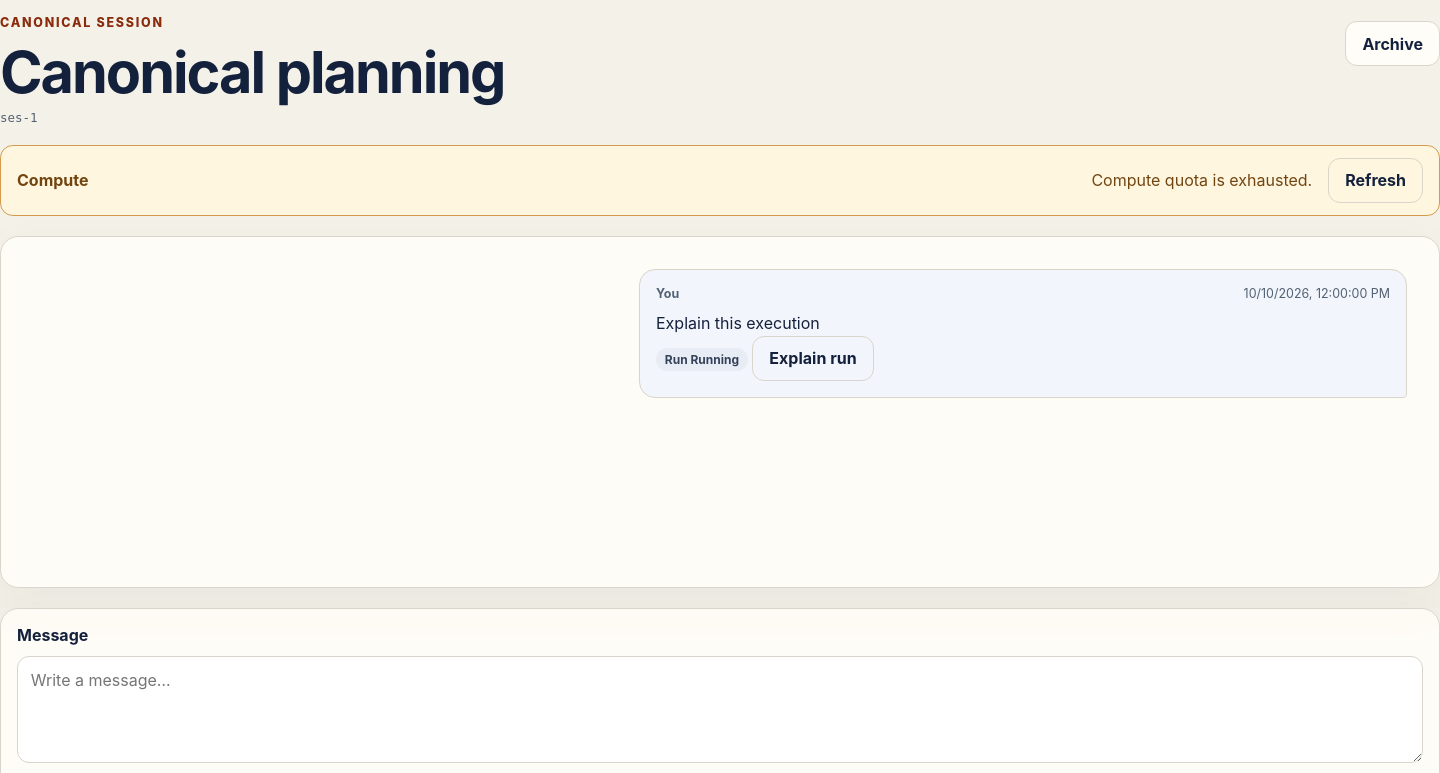
SessionDetail explanation lifecycle › does not replace new-scope compute with a stale refresh read
Click the button "Refresh" at (1376, 180), box [1328,158,1423,203]
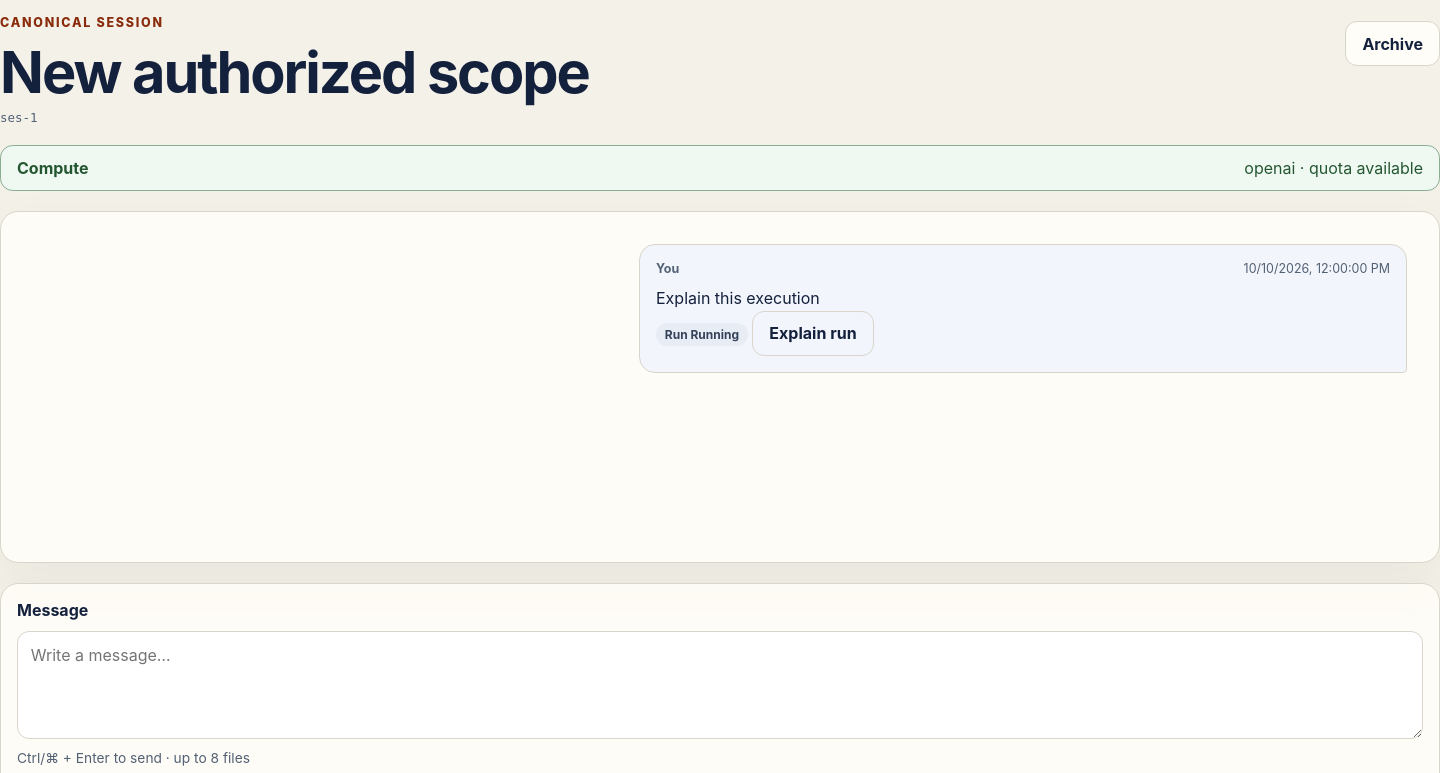
Check: the heading "New authorized scope" is shown, box [0,41,589,103]
Type "New scope message" into the text box labelled "Message" at (720, 685), box [17,631,1423,739]
(page scrolled)
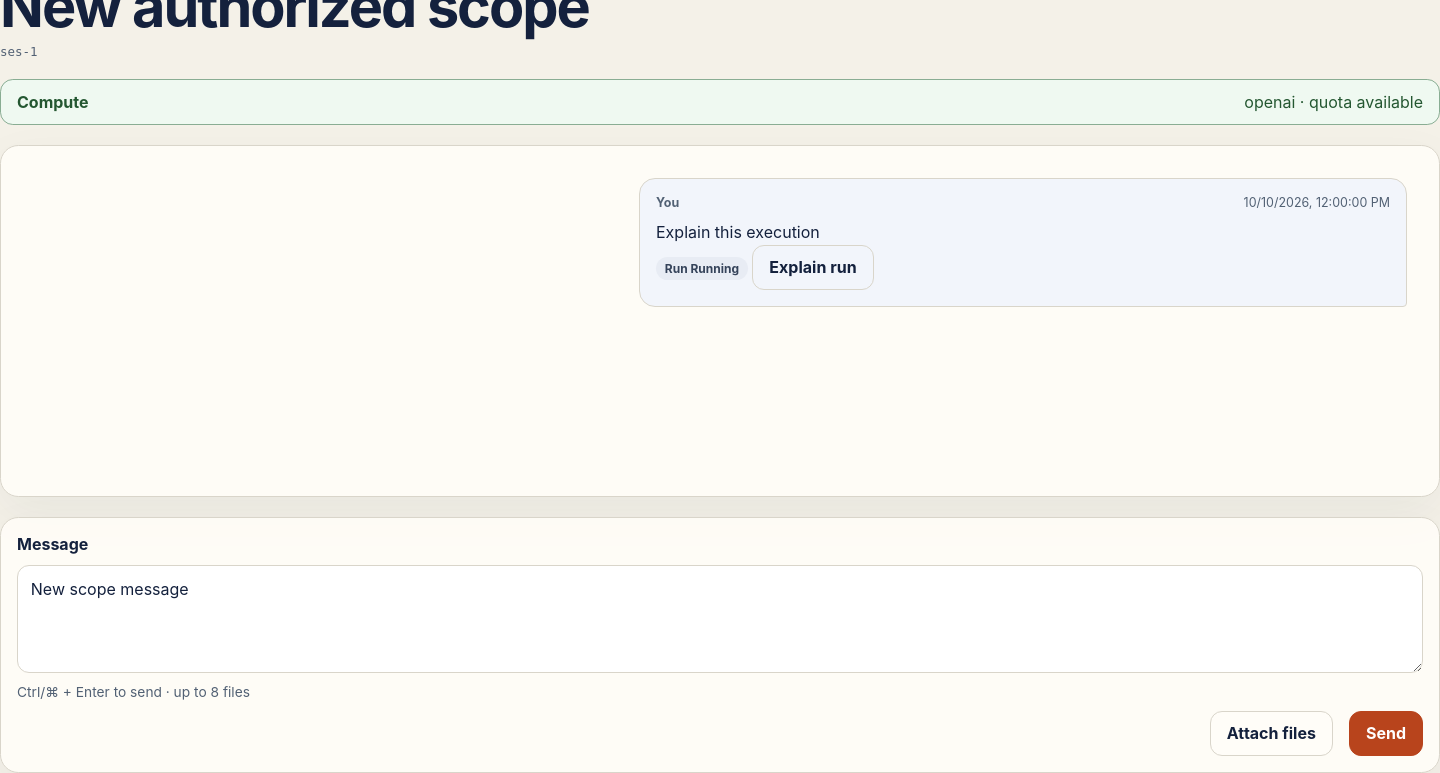
Check: the button "Refresh" is not shown
Check: the button "Send" is enabled, box [1349,711,1423,756]
